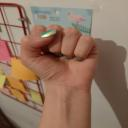Fist: (19, 22, 108, 94)
